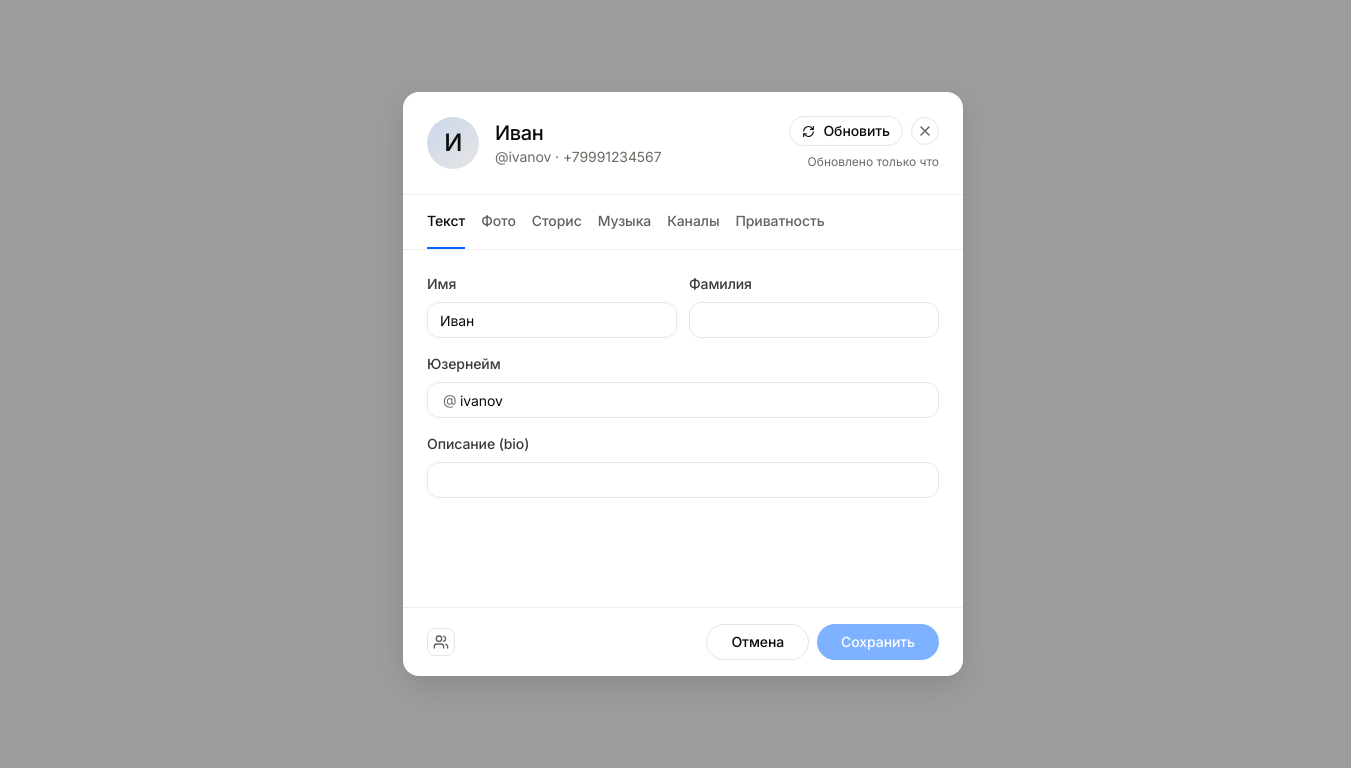
Scenario: Save is disabled until the form is actually edited
The width and height of the screenshot is (1366, 768).
Expected: the button "Сохранить" is disabled, left=817, top=624, right=939, bottom=660
In the field showing "Иван": (552, 320) left=427, top=302, right=677, bottom=338, type "ов"
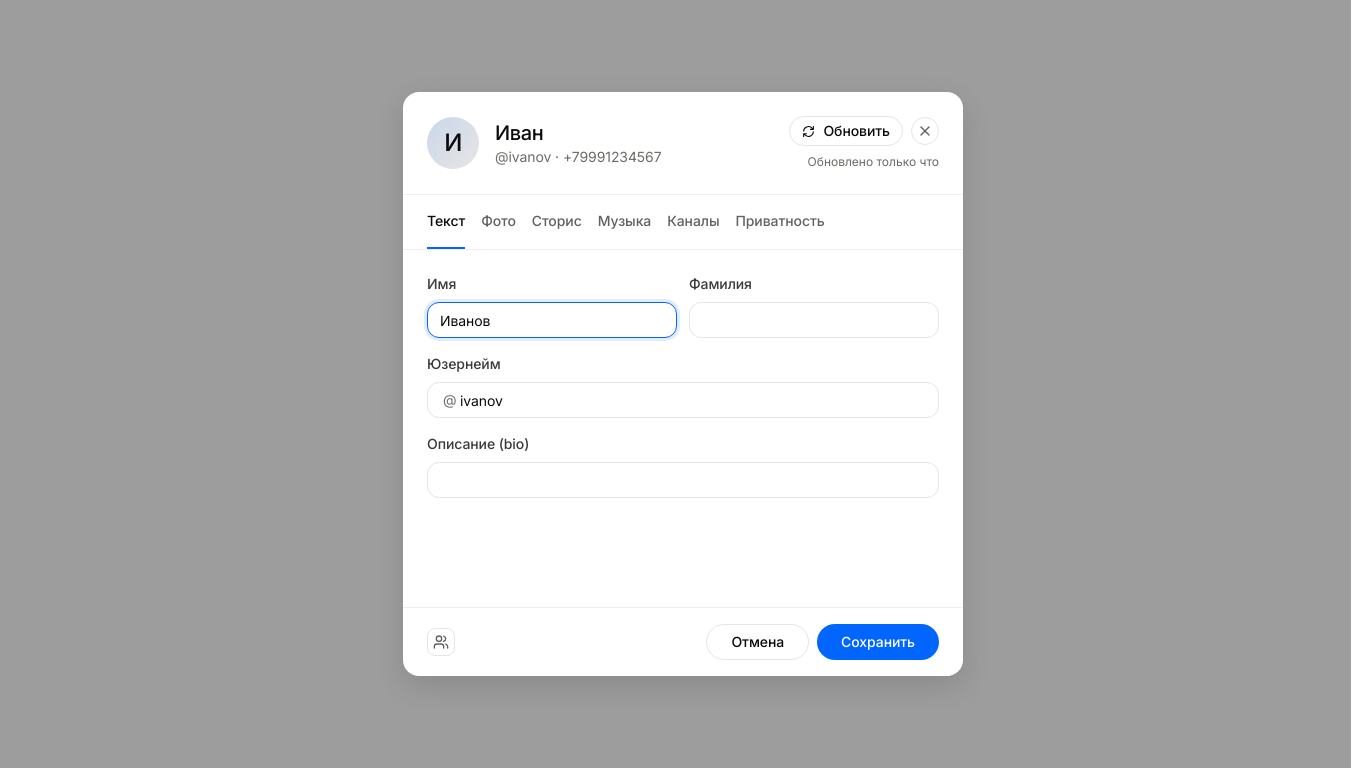
Expected: the button "Сохранить" is enabled, left=817, top=624, right=939, bottom=660
